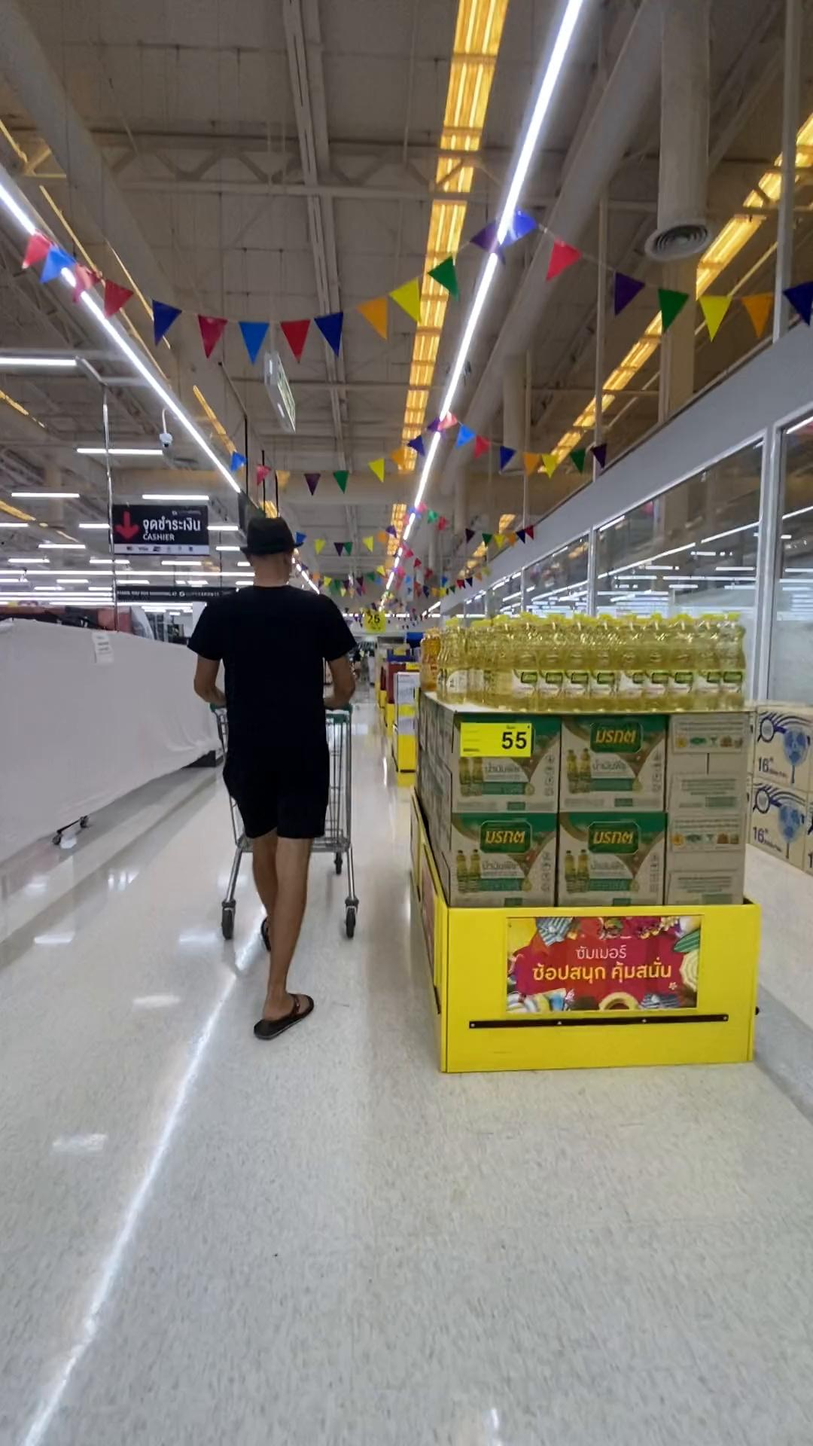Cart: (314, 704, 358, 938), (221, 798, 251, 939), (215, 708, 228, 747)
Person: (189, 517, 354, 1040)
article: (560, 714, 666, 810), (559, 619, 589, 707)
